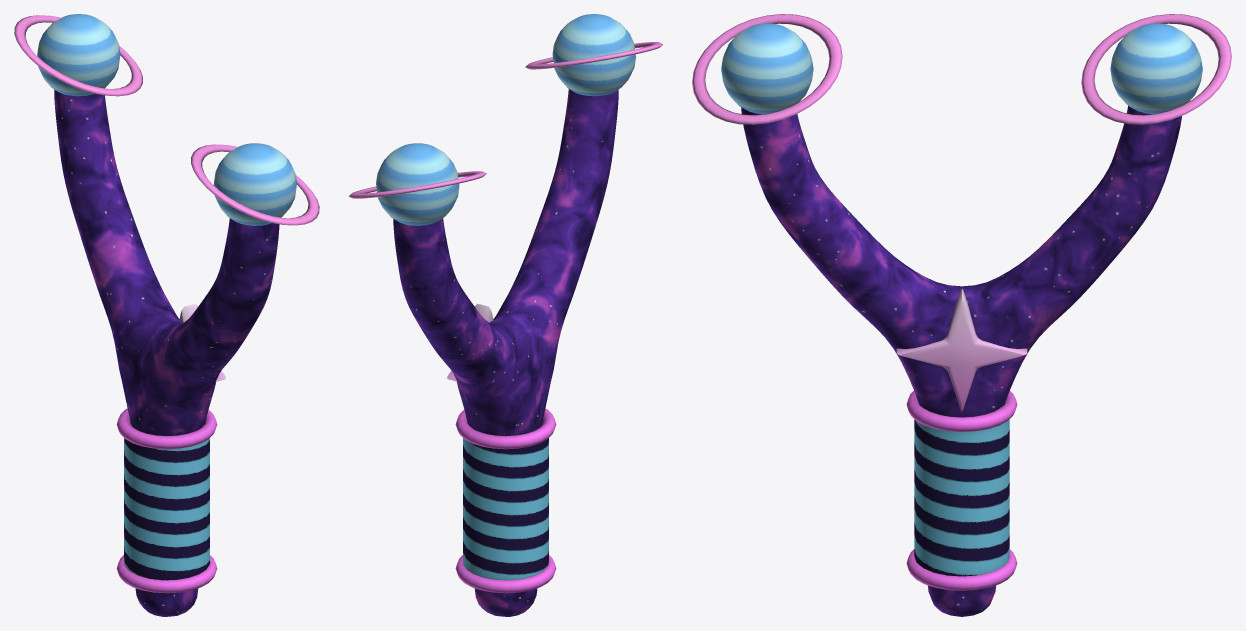
File: Galaxy Slingshot.fbx
3 views of the same model, side by side, from view 1: azimuth 30°, elevation 25°; view 2: azimuth 150°, elevation 25°; view 3: azimuth 270°, elevation 25° (orthographic). The views are drawn at different scales.
Visible parts, largest first — view 1: Galaxy Slingshot; view 2: Galaxy Slingshot; view 3: Galaxy Slingshot.
Part boxes in pixels (box(x1,y1,x2,y2)): Galaxy Slingshot: box(14, 14, 319, 616); Galaxy Slingshot: box(348, 14, 663, 616); Galaxy Slingshot: box(692, 14, 1231, 616).
Size of the model in its own units: 3 by 13.27 by 11.09.
Materials: 1 (1 with a texture image).
